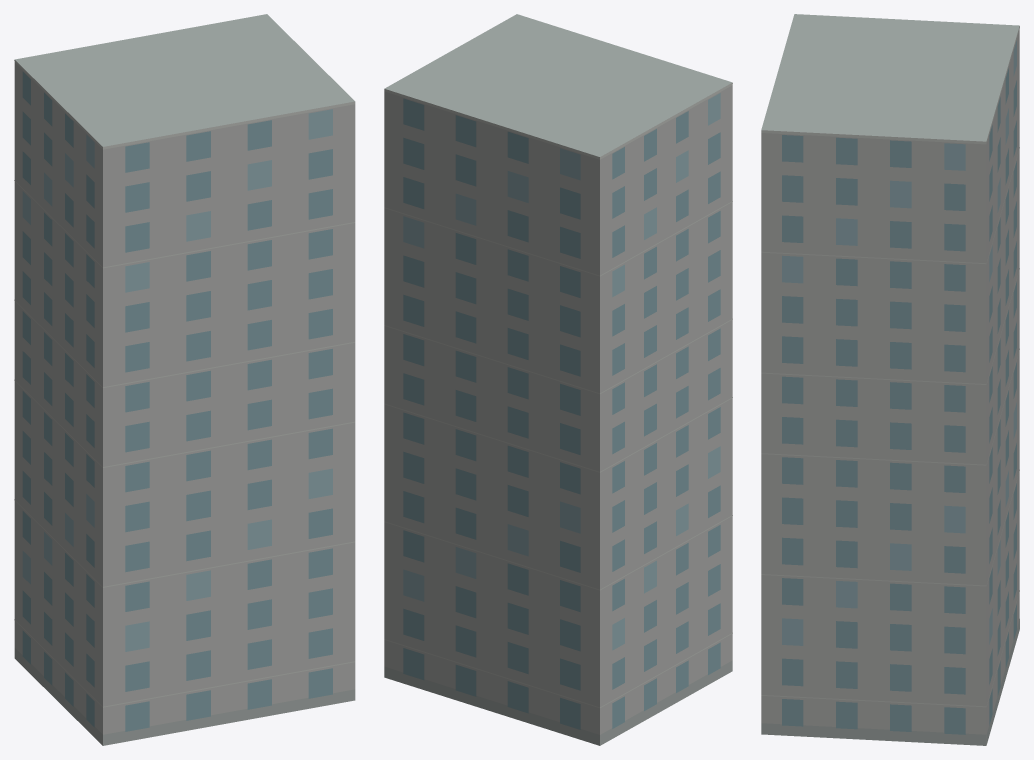
The model's file is residential-5b78d69d-cceb-46e4-a340-62cf0e690b49.glb.
The picture shows the model from 3 angles, left to right: view 1: azimuth 30°, elevation 25°; view 2: azimuth 150°, elevation 25°; view 3: azimuth 270°, elevation 25°; orthographic projection. The views are drawn at different scales.
Visible parts, largest first — view 1: residential-5b78d69d-cceb-46e4-a340-62cf0e690b49.tmp; view 2: residential-5b78d69d-cceb-46e4-a340-62cf0e690b49.tmp; view 3: residential-5b78d69d-cceb-46e4-a340-62cf0e690b49.tmp.
Part boxes in pixels (x1,y1,x2,y2): residential-5b78d69d-cceb-46e4-a340-62cf0e690b49.tmp: [14, 14, 355, 745]; residential-5b78d69d-cceb-46e4-a340-62cf0e690b49.tmp: [384, 14, 732, 745]; residential-5b78d69d-cceb-46e4-a340-62cf0e690b49.tmp: [761, 14, 1019, 745].
Size of the model in its own units: 24.04 by 53 by 20.58.
